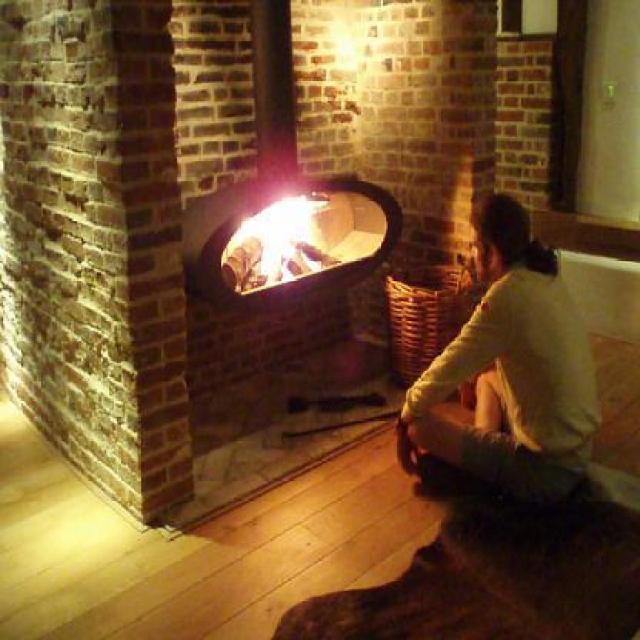Fire: (212, 198, 332, 287)
